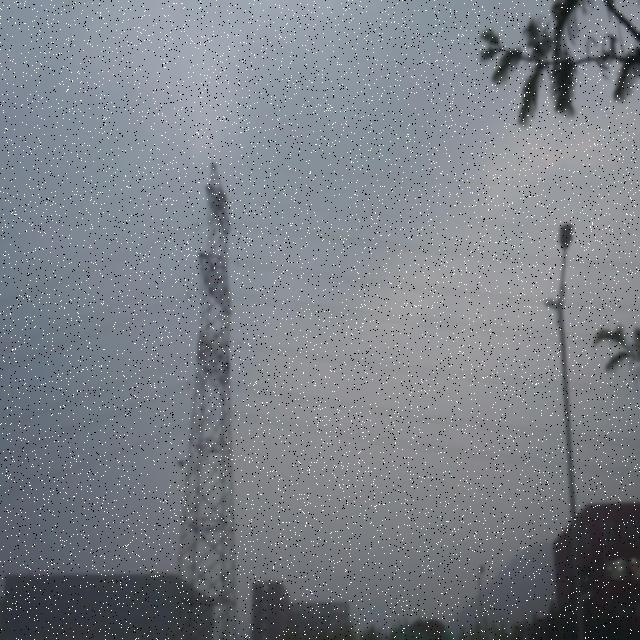UAV: (175, 459, 188, 469)
